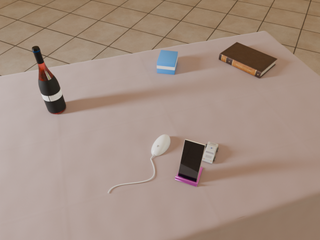book: (219, 42, 277, 78)
bottle: (32, 46, 66, 114)
box: (157, 50, 178, 74)
mouse: (151, 135, 170, 156)
phone: (178, 139, 206, 182)
toy_car: (203, 142, 218, 163)
